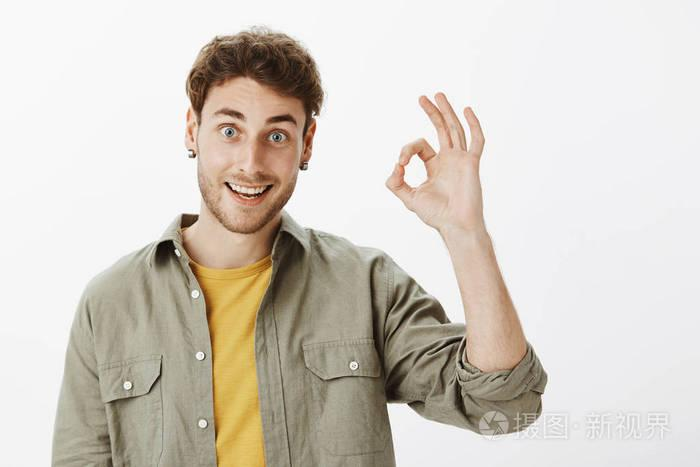no-phone: (382, 91, 492, 230)
